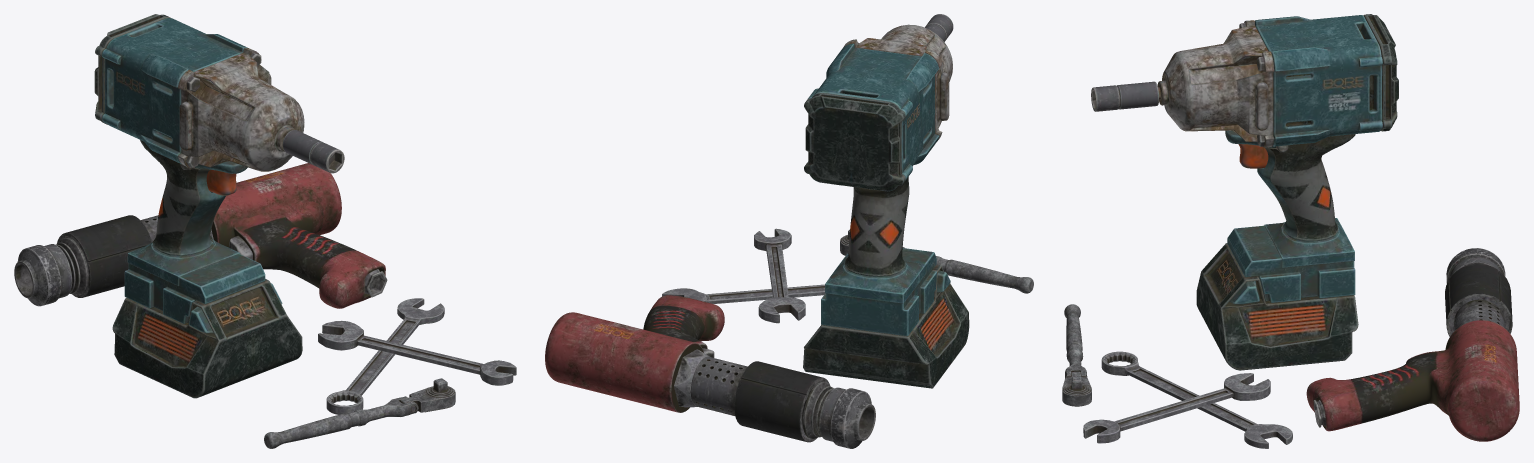
Rendered from garage_tools.glb.
3 renders of one model, left to right at view 1: azimuth 30°, elevation 25°; view 2: azimuth 150°, elevation 25°; view 3: azimuth 270°, elevation 25°, orthographic.
Visible parts, largest first — view 1: impact wrench, Air hammer.007, Ratchet.004, wrench 2.001, wrench.001; view 2: impact wrench, Air hammer.007, wrench 2.001, Ratchet.004, wrench.001; view 3: impact wrench, Air hammer.007, wrench 2.001, wrench.001, Ratchet.004.
Part boxes in pixels (<box>): impact wrench: <box>94,14,344,398</box>; Air hammer.007: <box>14,163,387,308</box>; Ratchet.004: <box>264,378,455,448</box>; wrench 2.001: <box>318,320,516,385</box>; wrench.001: <box>326,298,444,414</box>; impact wrench: <box>803,14,969,388</box>; Air hammer.007: <box>545,295,875,448</box>; wrench 2.001: <box>754,228,805,323</box>; Ratchet.004: <box>840,229,1033,293</box>; wrench.001: <box>662,284,824,303</box>; impact wrench: <box>1091,14,1398,370</box>; Air hammer.007: <box>1306,248,1519,441</box>; wrench 2.001: <box>1083,373,1270,443</box>; wrench.001: <box>1101,351,1292,448</box>; Ratchet.004: <box>1062,304,1091,406</box>.
Bounding box in the file's own units: 0.2667 × 0.2523 × 0.3429.
3 materials, 3 textured.
